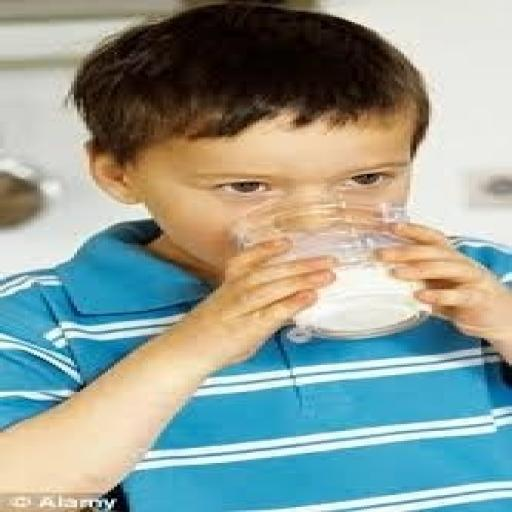drinking: (45, 13, 435, 343)
